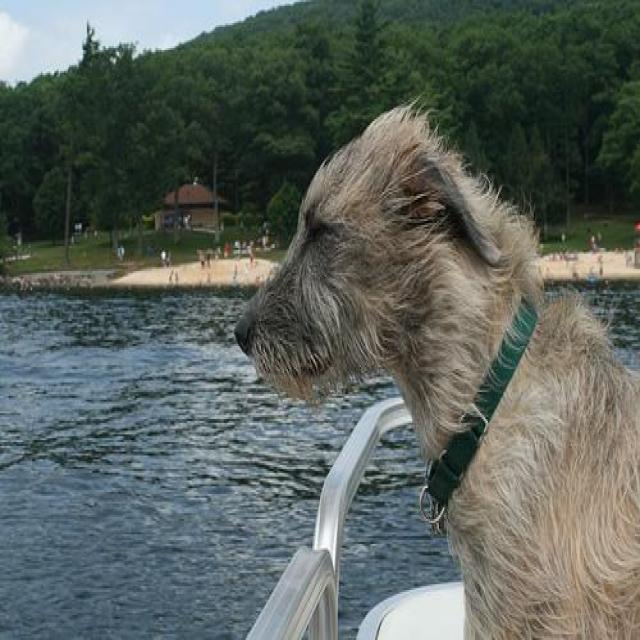irish_wolfhound: (229, 96, 639, 638)
